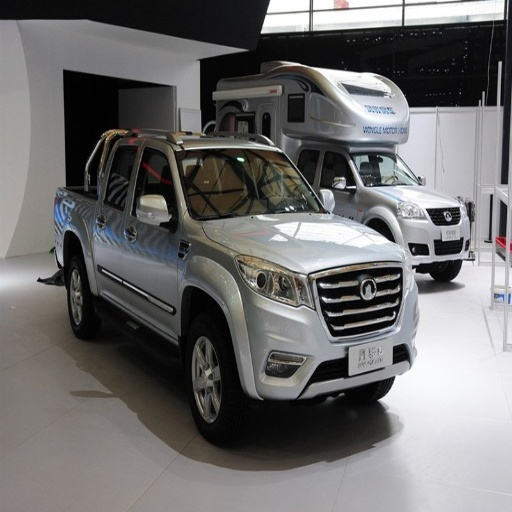back_right_door: (88, 137, 141, 298)
front_bumper: (227, 261, 417, 398)
front_right_door: (123, 145, 179, 331)
front_right_light: (239, 258, 310, 305)
hood: (205, 213, 404, 271)
